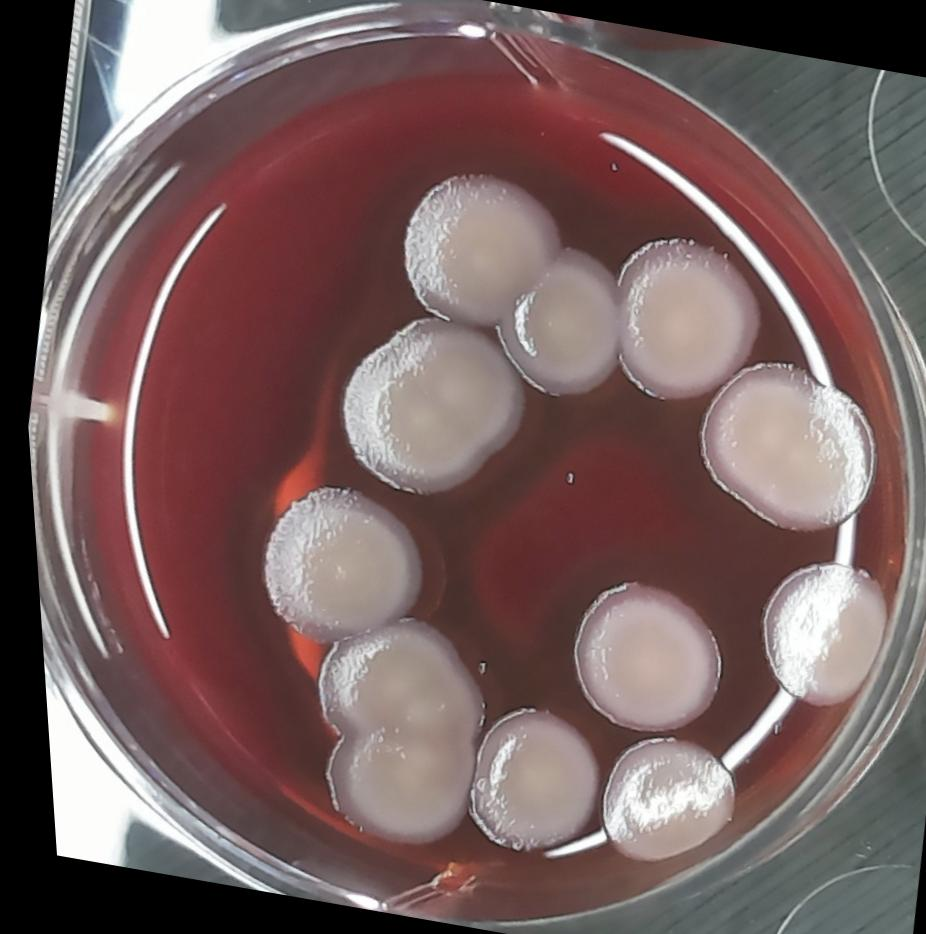bcereus: (303, 296, 543, 516), (658, 340, 895, 558), (228, 469, 444, 666), (586, 220, 779, 418), (537, 564, 734, 756), (718, 532, 902, 732), (372, 153, 572, 336), (290, 600, 503, 766), (469, 233, 644, 417), (437, 694, 606, 874), (575, 724, 747, 887), (293, 722, 464, 868)
